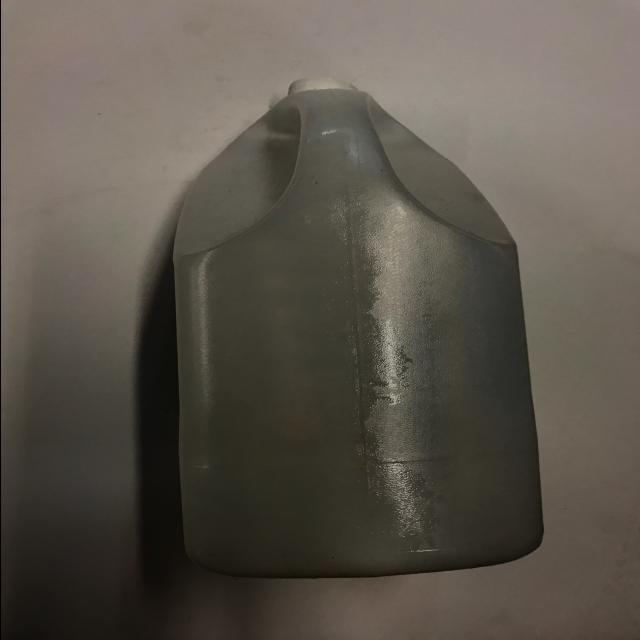Plastic: (120, 49, 562, 586)
